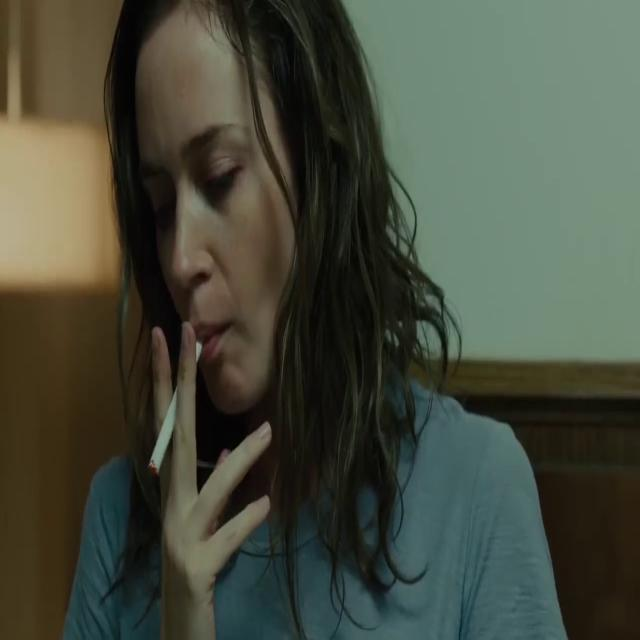Smooking: (135, 354, 199, 488)
